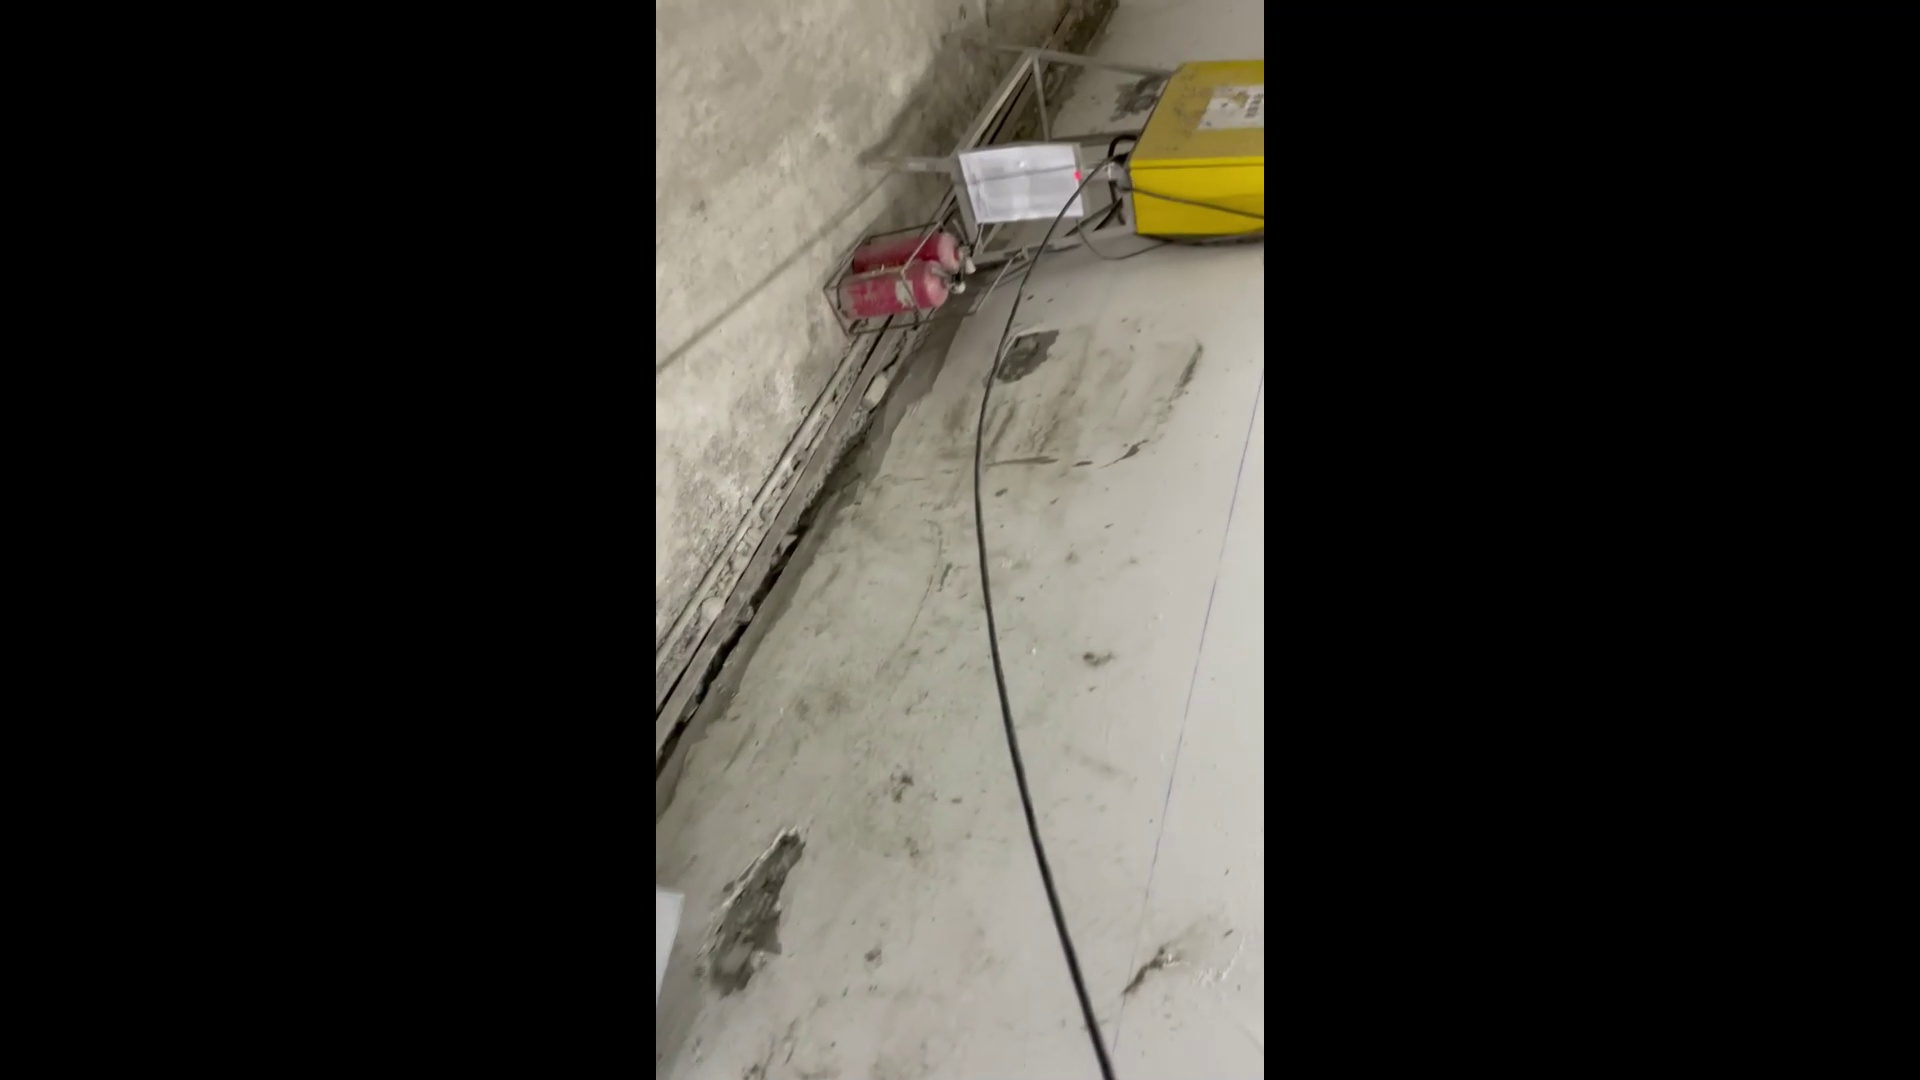ebox: (915, 15, 1267, 247)
